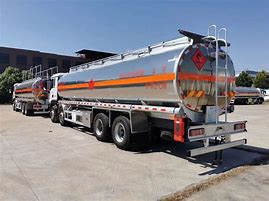oil truck: (45, 22, 247, 155)
